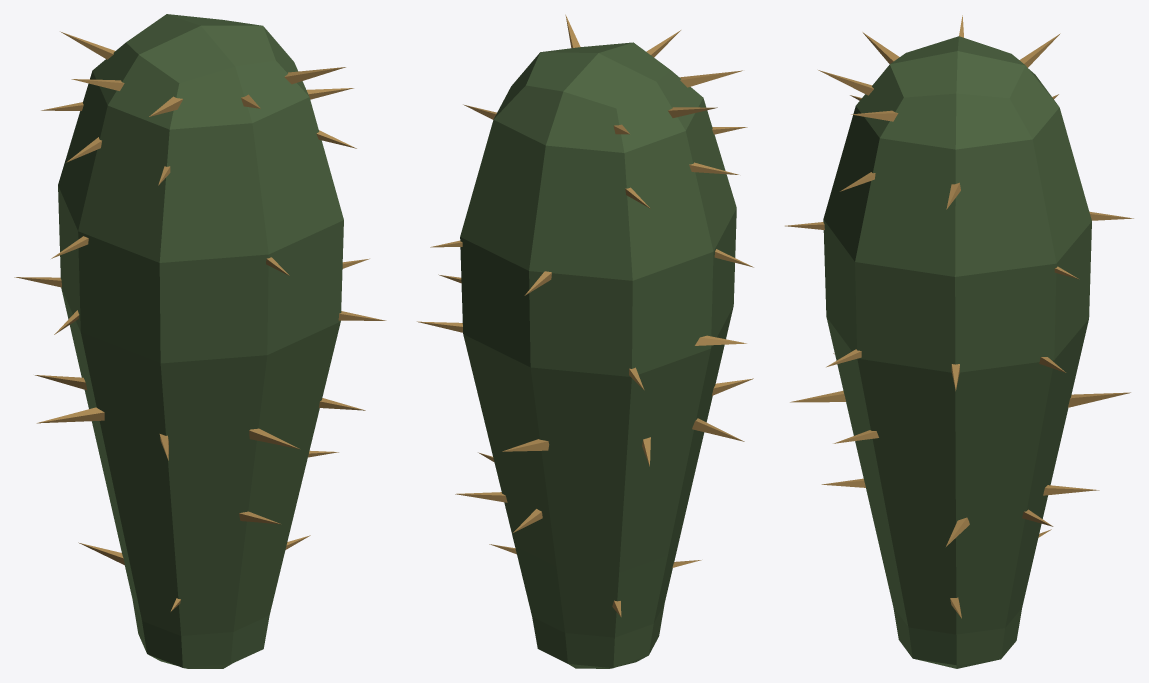
Rendered from Cactus_3.glb.
The picture shows the model from 3 angles, left to right: view 1: azimuth 30°, elevation 25°; view 2: azimuth 150°, elevation 25°; view 3: azimuth 270°, elevation 25°; orthographic projection. The views are drawn at different scales.
Parts seen in each view (by area): view 1: Cactus_3; view 2: Cactus_3; view 3: Cactus_3.
Part boxes in pixels (x1,y1,x2,y2): Cactus_3: [14, 14, 386, 668]; Cactus_3: [417, 14, 753, 668]; Cactus_3: [785, 15, 1133, 668].
Size of the model in its own units: 0.3937 by 0.7217 by 0.382.
